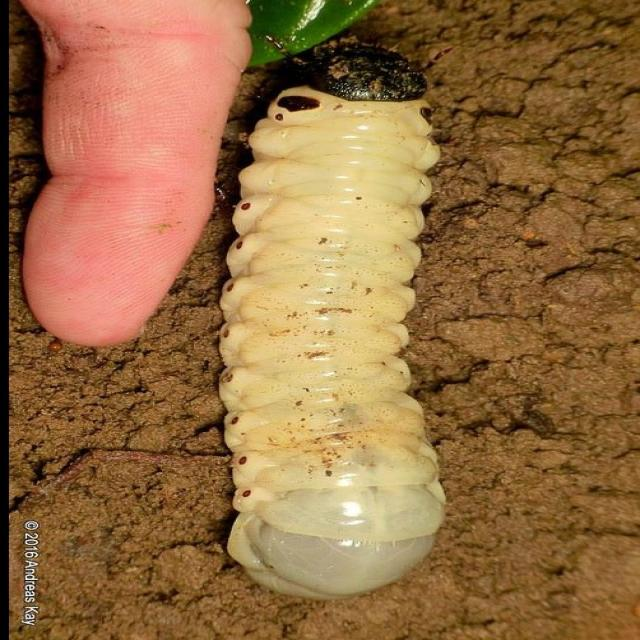grub: (216, 39, 454, 613)
